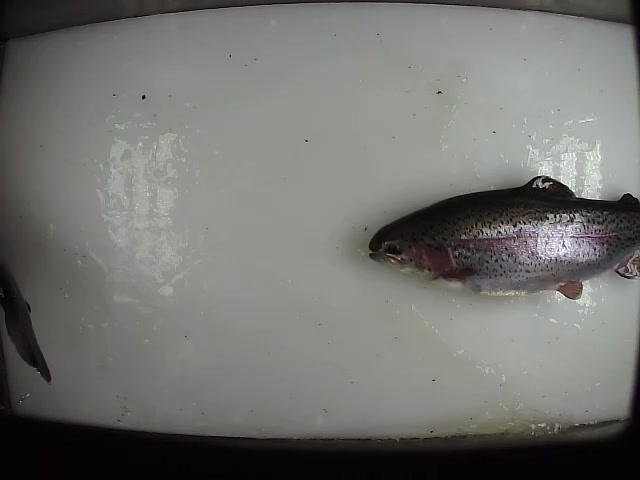fish: (366, 171, 640, 304)
